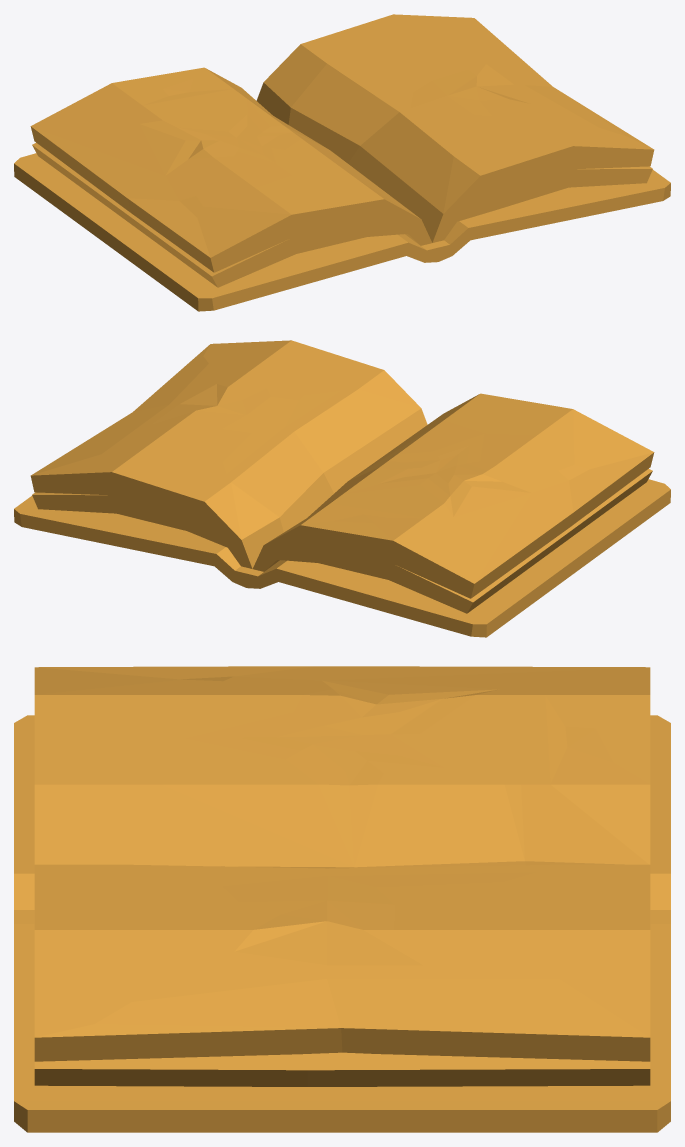
The model's file is book-evil-open.fbx.
3 renders of one model, top to bottom at view 1: azimuth 30°, elevation 25°; view 2: azimuth 150°, elevation 25°; view 3: azimuth 270°, elevation 25°, orthographic. The views are drawn at different scales.
Visible parts, largest first — view 1: book-evil-open; view 2: book-evil-open; view 3: book-evil-open.
Part boxes in pixels (left/top/right/bottom): book-evil-open: left=14, top=14, right=670, bottom=311; book-evil-open: left=14, top=340, right=670, bottom=637; book-evil-open: left=14, top=666, right=670, bottom=1132.
Size of the model in its own units: 0.343 by 0.0536 by 0.2413.
